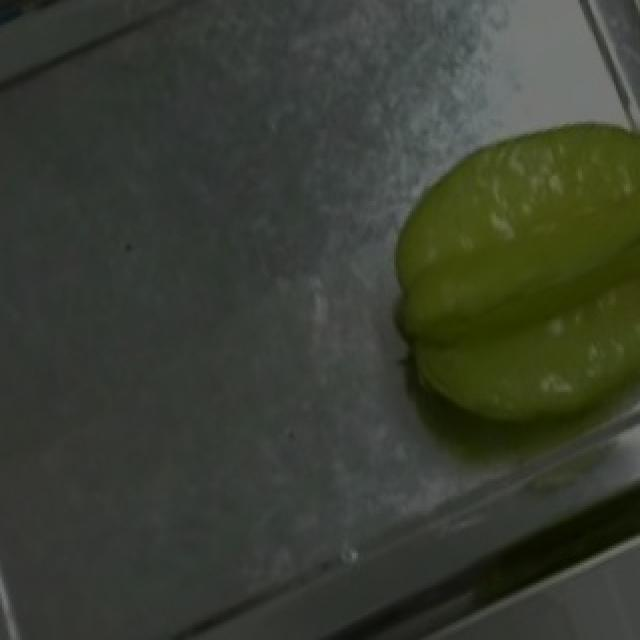fruit: (344, 74, 640, 477)
